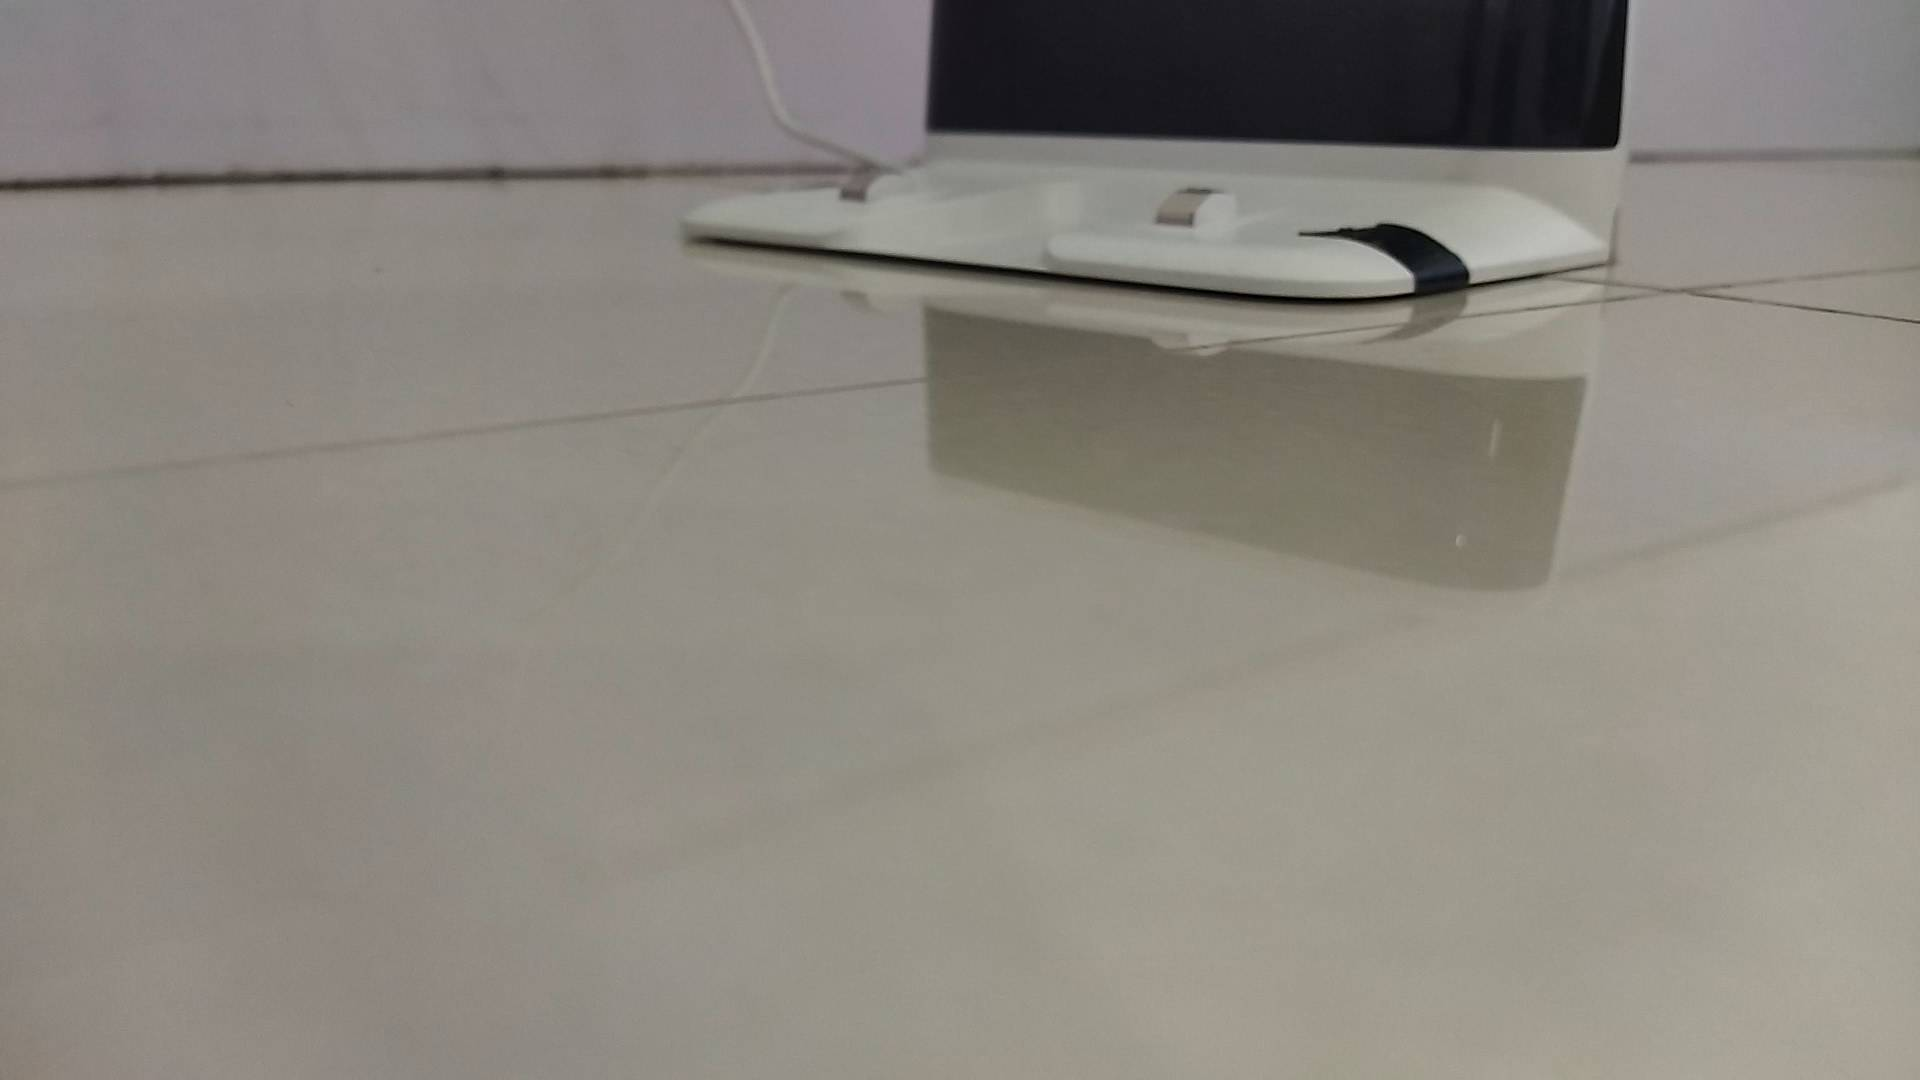recharge seat: (680, 1, 1635, 305)
